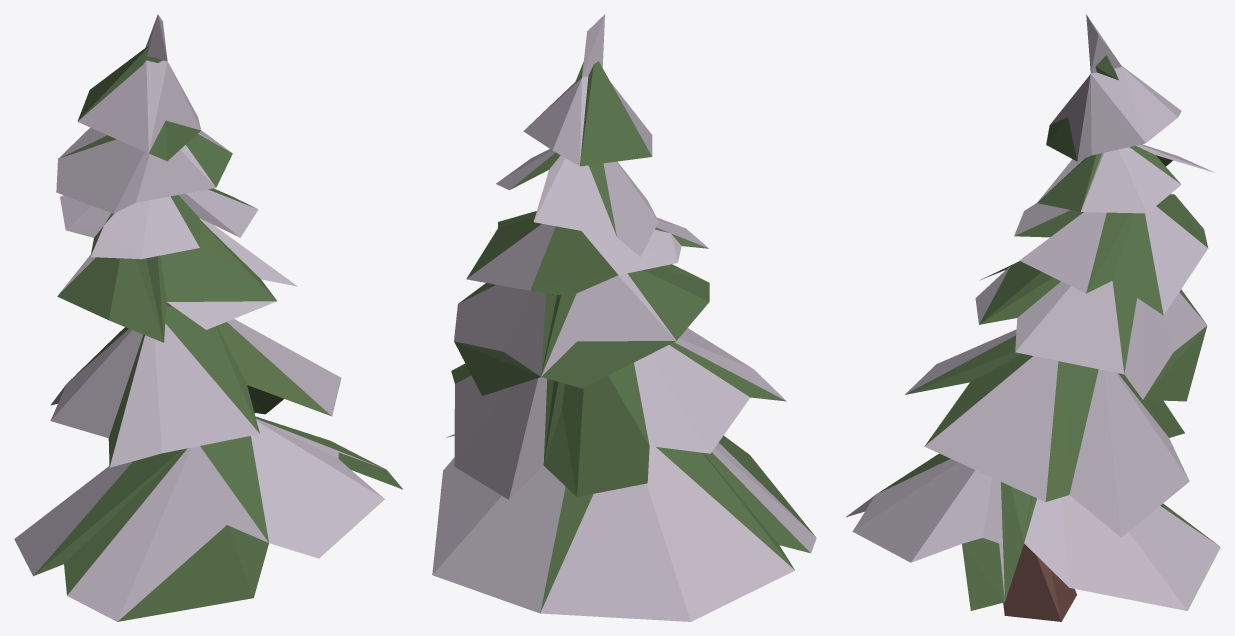
The model's file is PineTree_Snow_3.lod3.glb.
3 views of the same model, side by side, from view 1: azimuth 30°, elevation 25°; view 2: azimuth 150°, elevation 25°; view 3: azimuth 270°, elevation 25° (orthographic). The views are drawn at different scales.
Visible parts, largest first — view 1: PineTree_Snow_3; view 2: PineTree_Snow_3; view 3: PineTree_Snow_3.
Part boxes in pixels (bbox=[...]): PineTree_Snow_3: bbox=[14, 14, 402, 621]; PineTree_Snow_3: bbox=[432, 14, 816, 621]; PineTree_Snow_3: bbox=[845, 14, 1220, 621].
Bounding box in the file's own units: 2.13 × 3.31 × 1.95.
